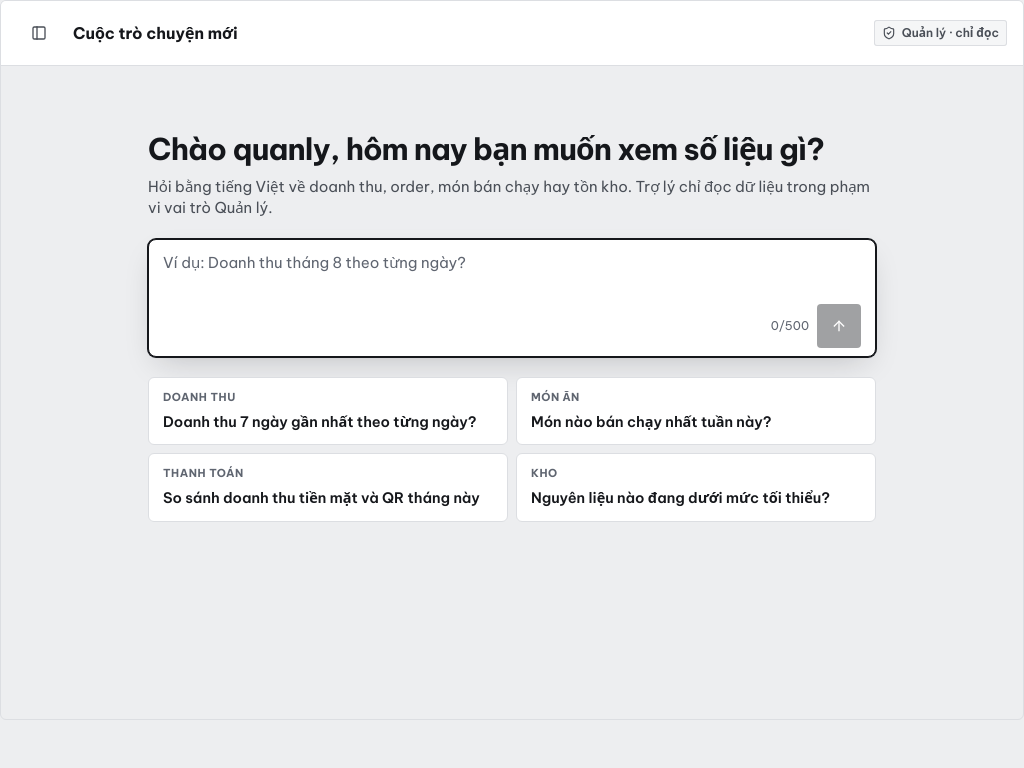
it: AssistantScreen › greets, asks a starter question and shows the answer
Check: the heading "Chào quanly, hôm nay bạn muốn xem số liệu gì?" is shown, box top-left (148, 130), bottom-right (876, 168)
Click the button "Doanh thu Doanh thu 7 ngày gần nhất theo từng ngày?" at (328, 411), box top-left (148, 377), bottom-right (508, 445)
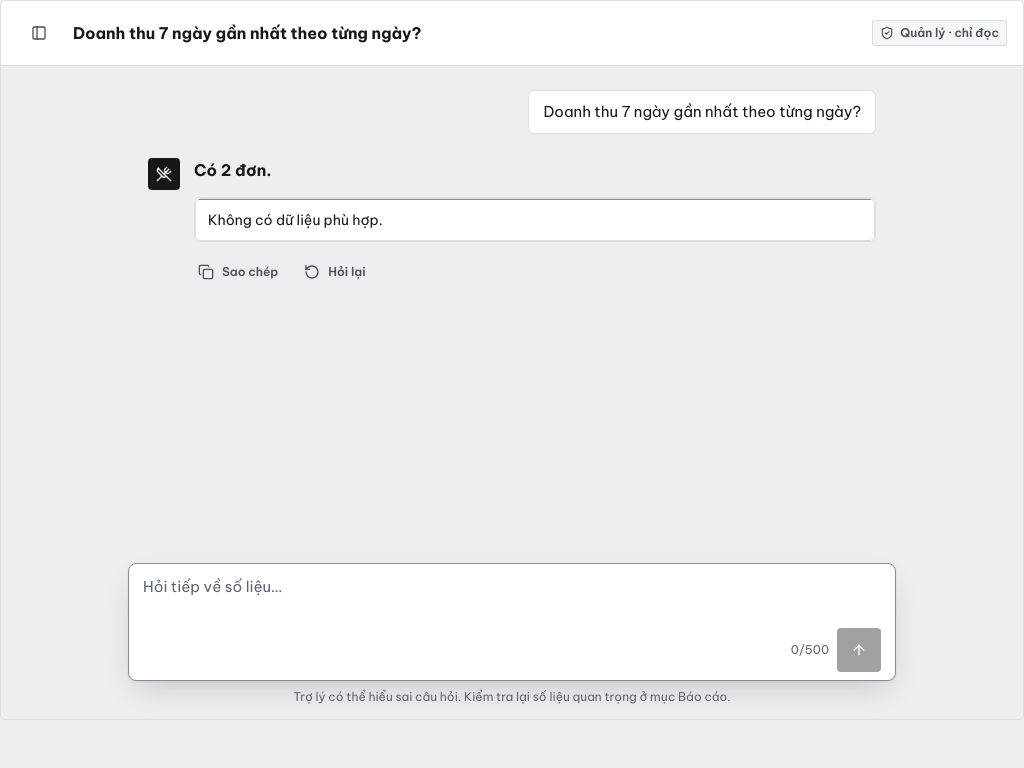
Check: the text "Có 2 đơn." is shown, box top-left (194, 160), bottom-right (272, 180)
